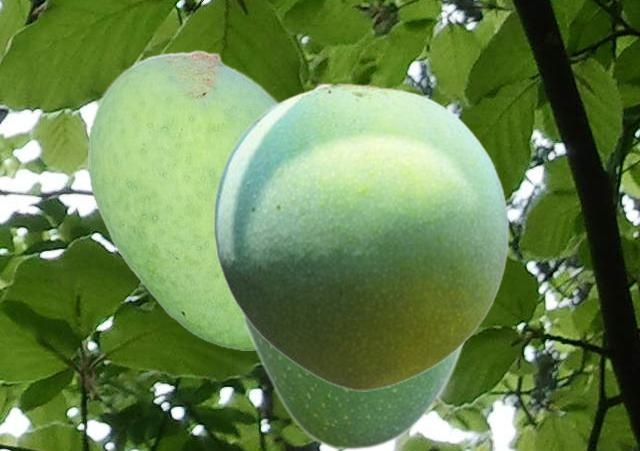green_mango: (213, 81, 508, 390), (88, 49, 278, 349), (238, 308, 467, 449)
